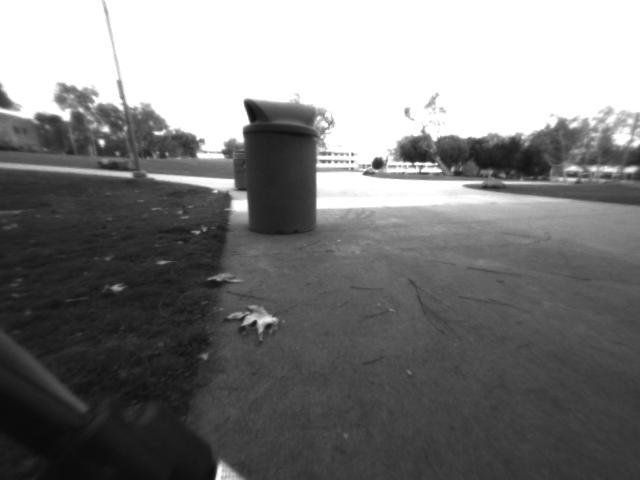trashcan: (242, 95, 326, 236)
